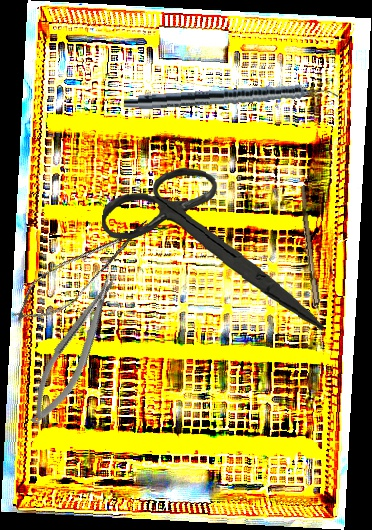Handpiece: (123, 80, 339, 116)
Iris Scissors: (97, 163, 331, 331)
Micro Scissor: (1, 204, 163, 338)
Needle Holder: (17, 266, 134, 432)
Surgical Spoon: (296, 185, 328, 349)
